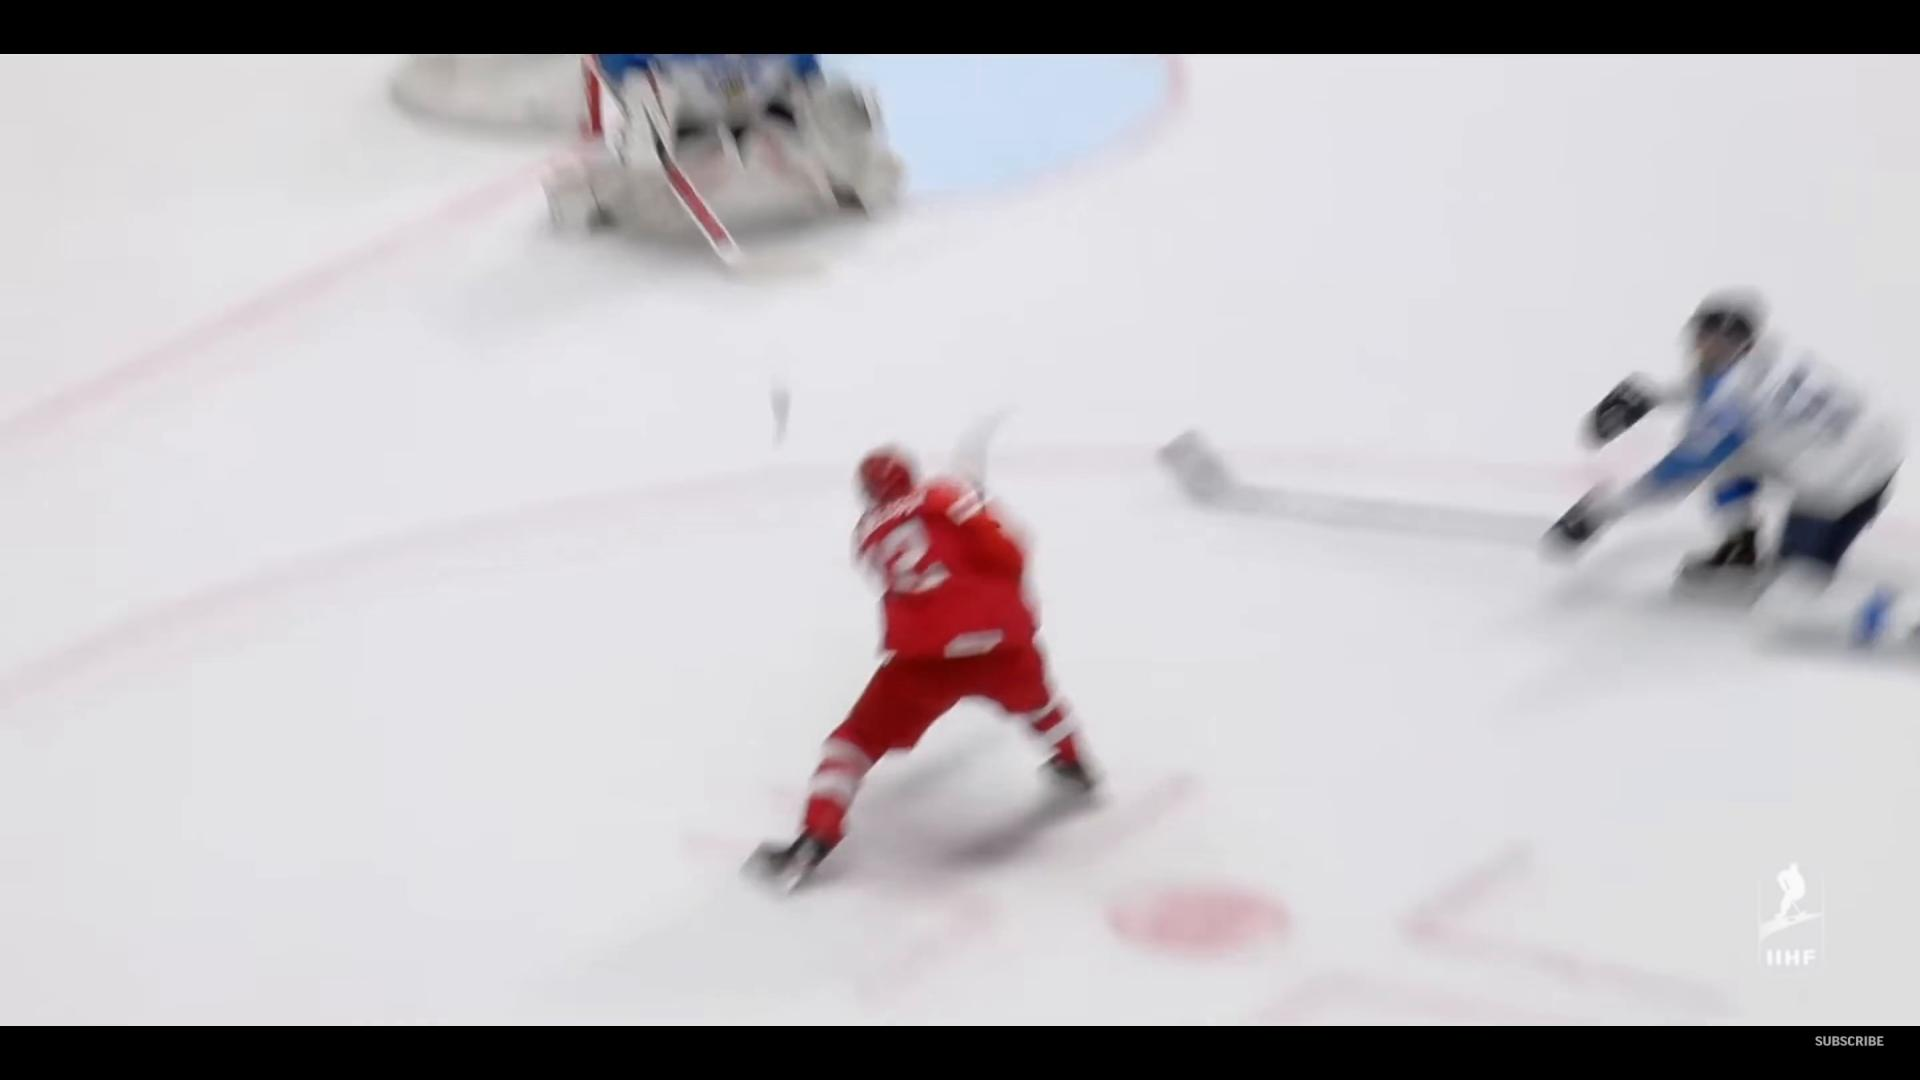puck: (770, 386, 793, 419)
